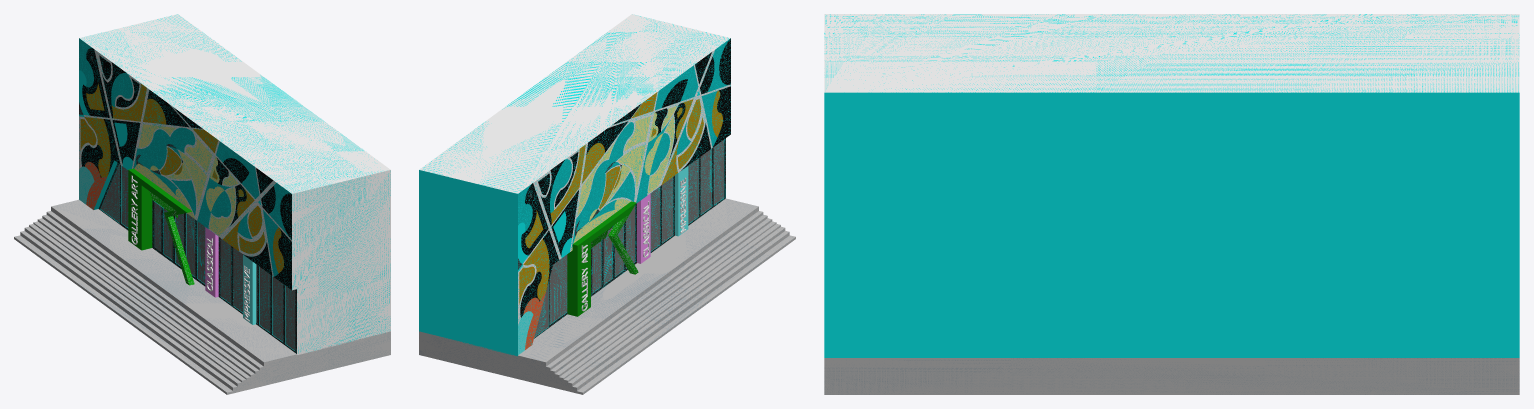
File: Tòa bò sữa.dae
3 renders of one model, left to right at view 1: azimuth 30°, elevation 25°; view 2: azimuth 150°, elevation 25°; view 3: azimuth 270°, elevation 25°, orthographic. The views are drawn at different scales.
Visible parts, largest first — view 1: group_1 (×42), group_4, group_5, group_2, group_3, group_0; view 2: group_1 (×43), group_4, group_5, group_2, group_3, group_0; view 3: group_1 (×2), group_4.
Boxes of the visible parts, x1=… form: group_1 (×42): x1=79, y1=14, x2=390, y2=354; group_4: x1=14, y1=199, x2=390, y2=394; group_5: x1=128, y1=168, x2=191, y2=250; group_2: x1=243, y1=255, x2=256, y2=324; group_3: x1=205, y1=227, x2=218, y2=297; group_0: x1=164, y1=210, x2=194, y2=285; group_1 (×43): x1=419, y1=14, x2=730, y2=356; group_4: x1=419, y1=198, x2=795, y2=394; group_5: x1=567, y1=201, x2=636, y2=316; group_2: x1=675, y1=166, x2=688, y2=236; group_3: x1=637, y1=193, x2=650, y2=263; group_0: x1=608, y1=214, x2=638, y2=274; group_1 (×2): x1=824, y1=14, x2=1519, y2=357; group_4: x1=824, y1=358, x2=1519, y2=394.
Bounding box in the file's own units: 293 × 659 × 316.
